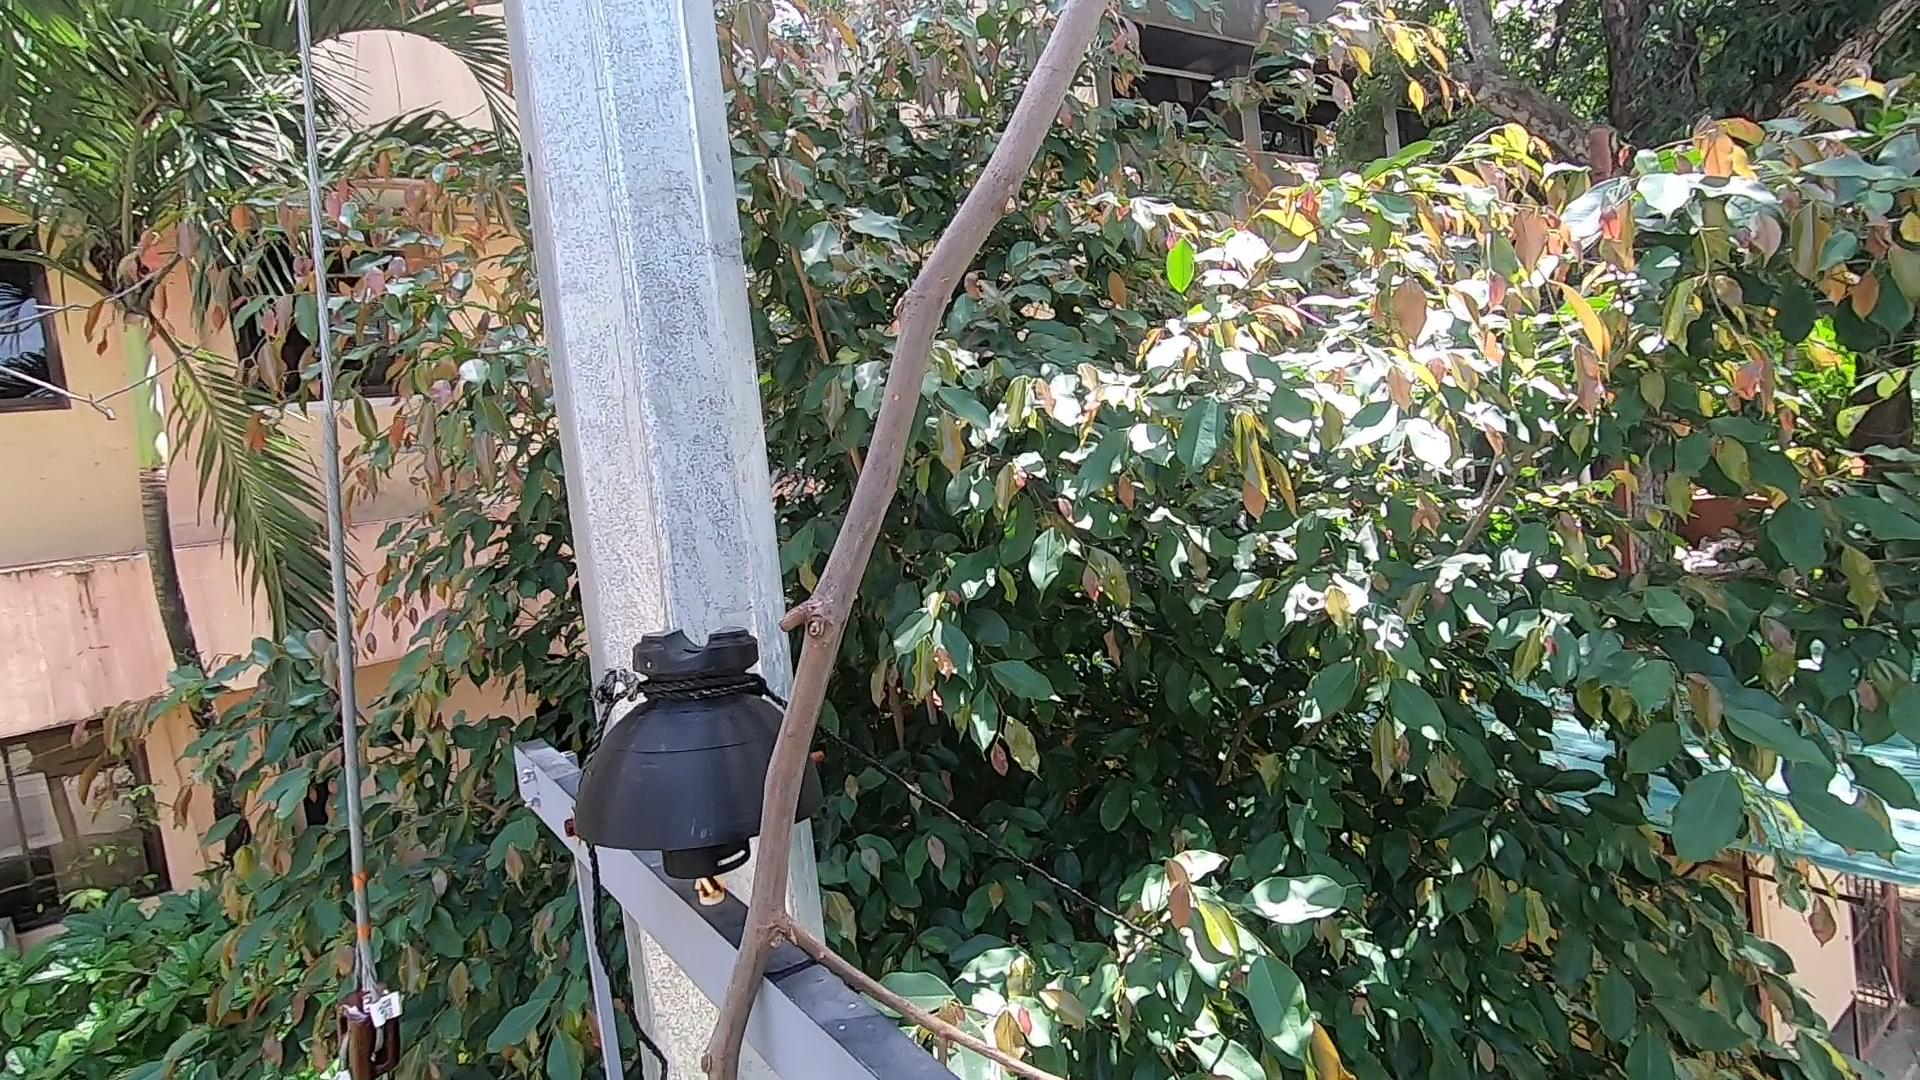tree branch: (699, 3, 1125, 1080)
